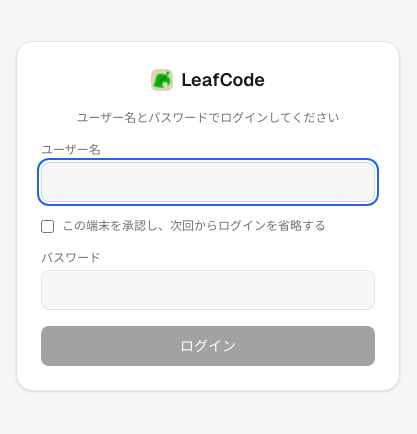
Test case: LoginForm › shows an error when login fails
Type "alice" into the field labelled "ユーザー名" at (208, 182), box left=41, top=162, right=375, bottom=202
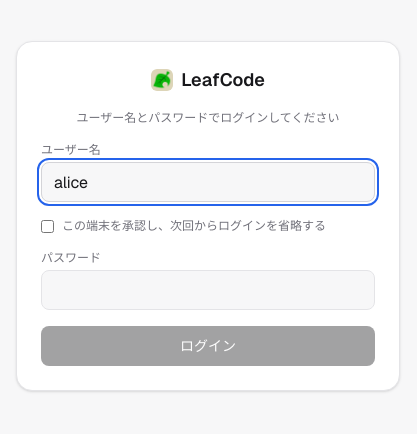
Type "wrong" into the password field labelled "パスワード" at (208, 290), box left=41, top=270, right=375, bottom=310
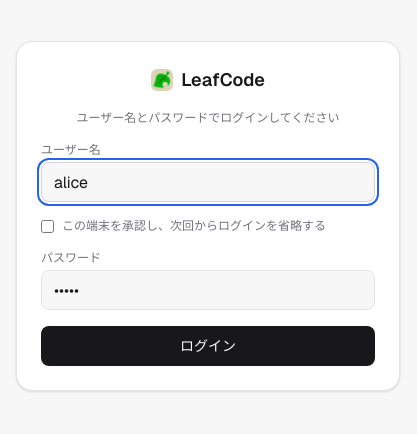
Click the button "ログイン" at (208, 346), box left=41, top=326, right=375, bottom=366
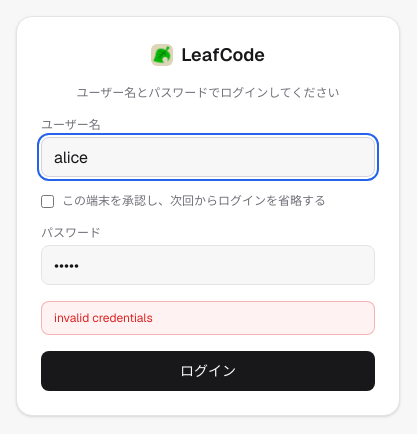
Now the message reads "invalid credentials", box left=54, top=310, right=153, bottom=326
